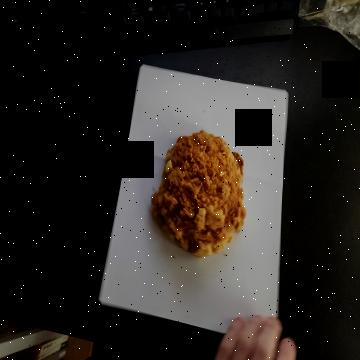soboru_bread: (151, 130, 246, 261)
